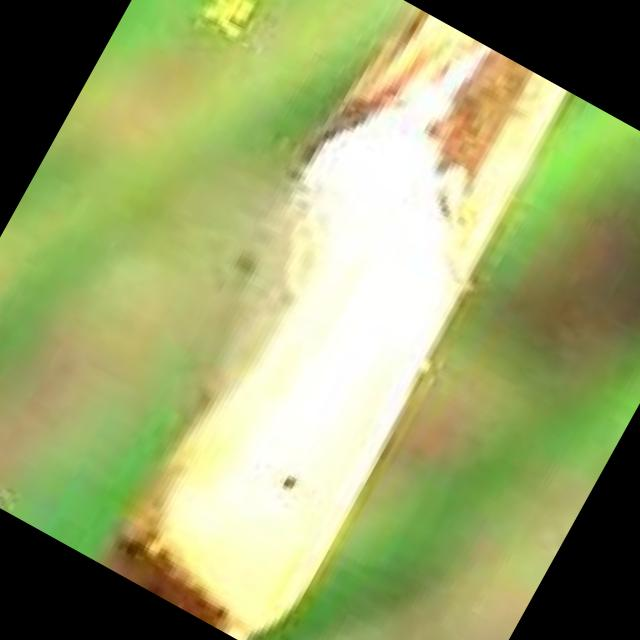stem-borer: (81, 0, 582, 640)
